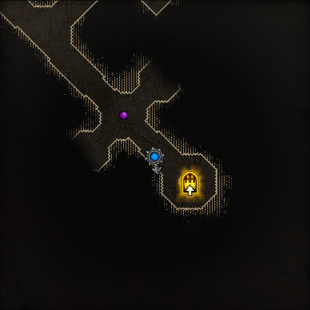Exit: (180, 169, 201, 196)
